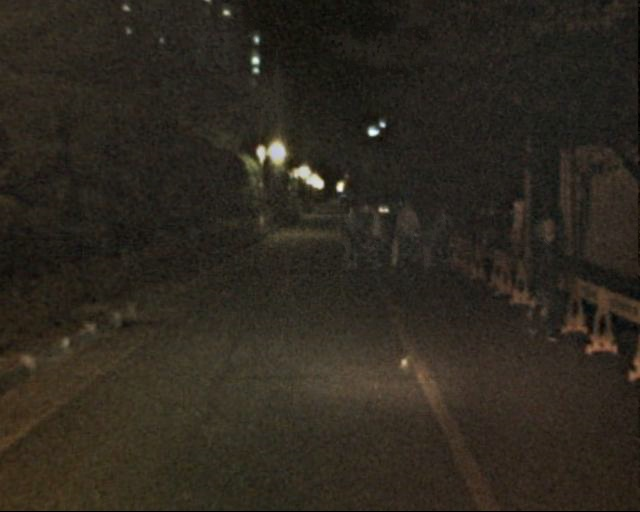person: (518, 218, 568, 341), (391, 200, 421, 273), (358, 203, 388, 275), (336, 204, 364, 272), (415, 211, 441, 275), (433, 208, 458, 268), (376, 208, 400, 267)
